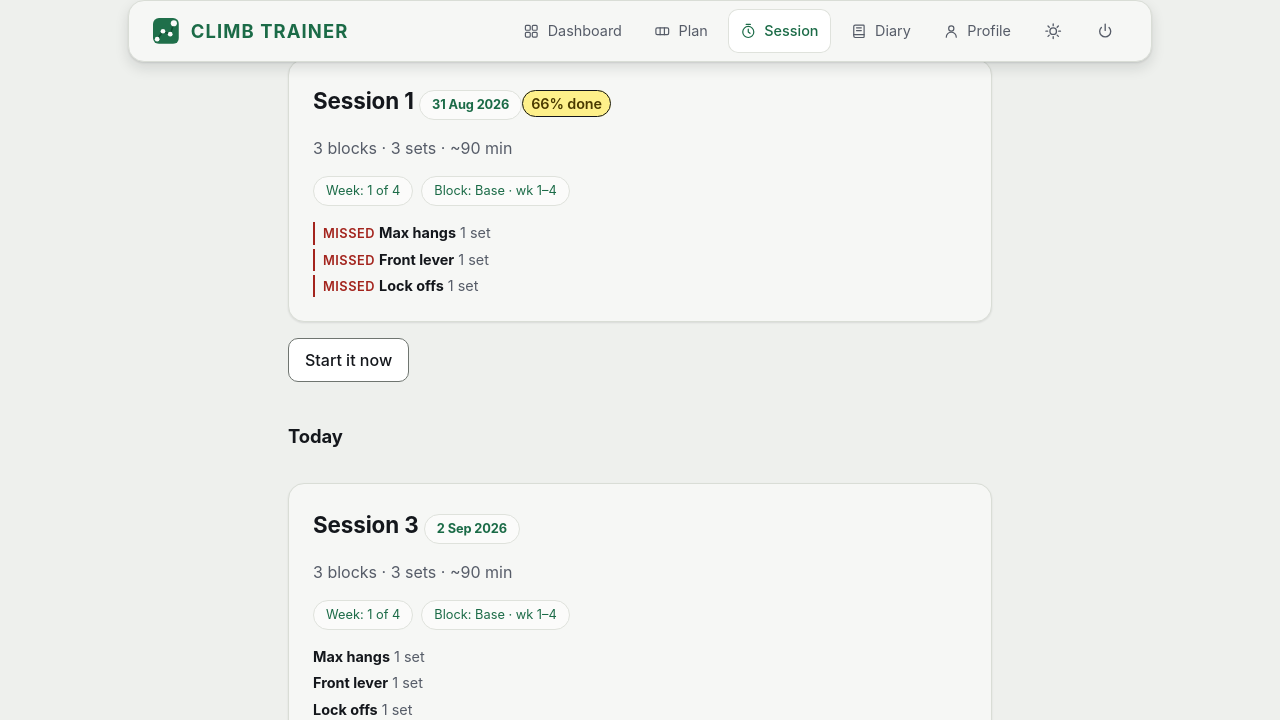
Test: ⚠️ still OFFERS a session finished at a third, and does not paint it finished
(page scrolled)
Check: the heading "Pending from previous days" is shown, box [288,1,536,23]
Click the button "Start it now": {"x": 349, "y": 360} [288,338,409,382]
(page scrolled)
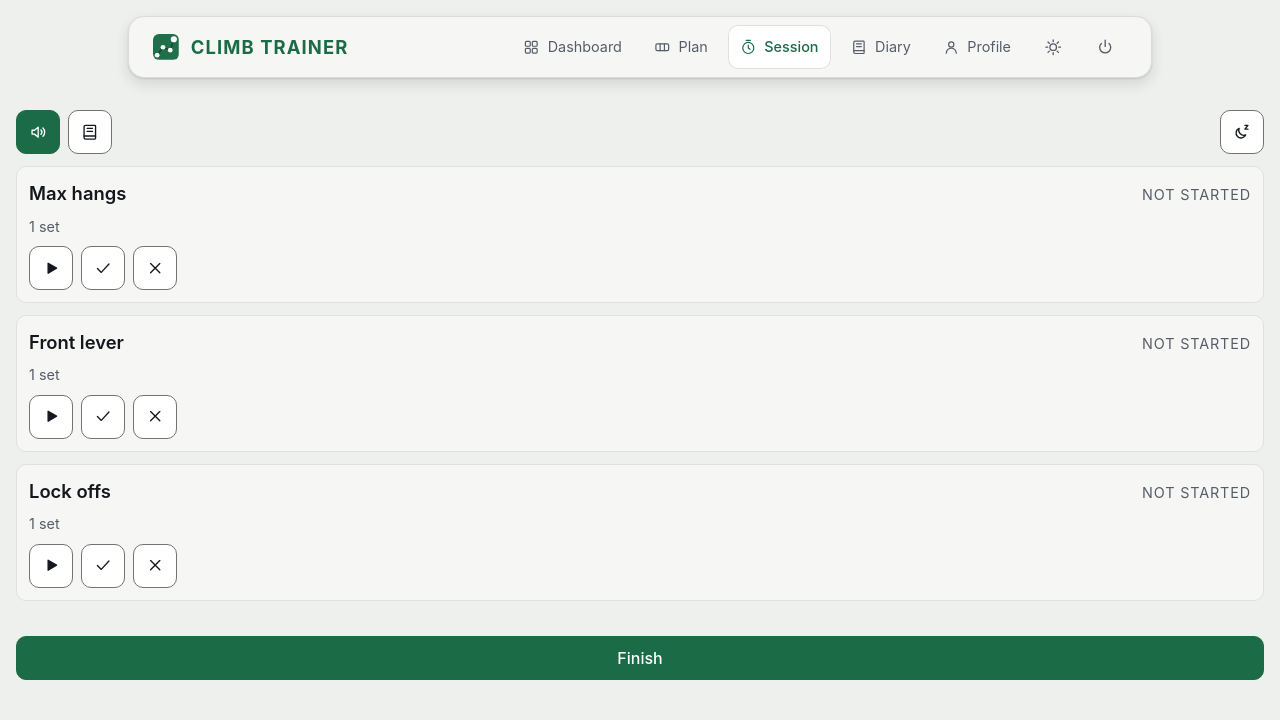
Click the button named "I did Max hangs myself": {"x": 103, "y": 268} [81,246,125,290]
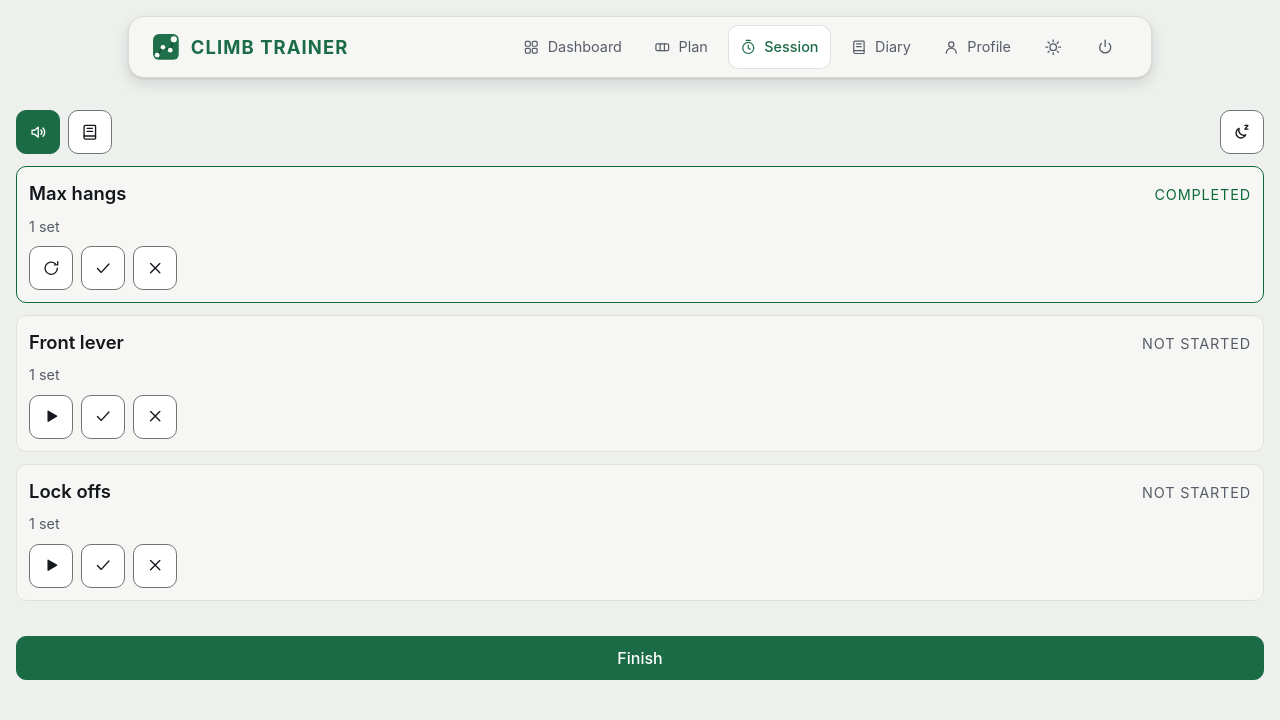
Click the button "Finish": {"x": 640, "y": 658} [16,636,1264,680]
(page scrolled)
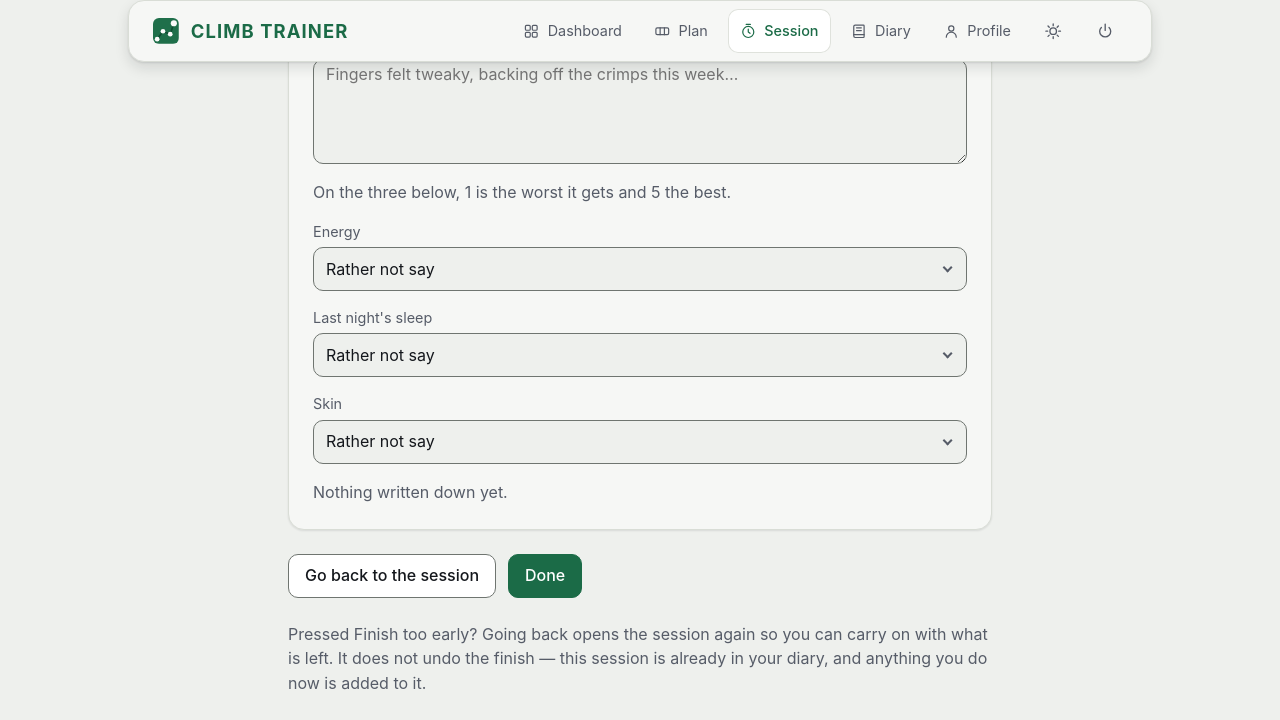
Click the button "Done": {"x": 545, "y": 576} [508,554,582,598]
(page scrolled)
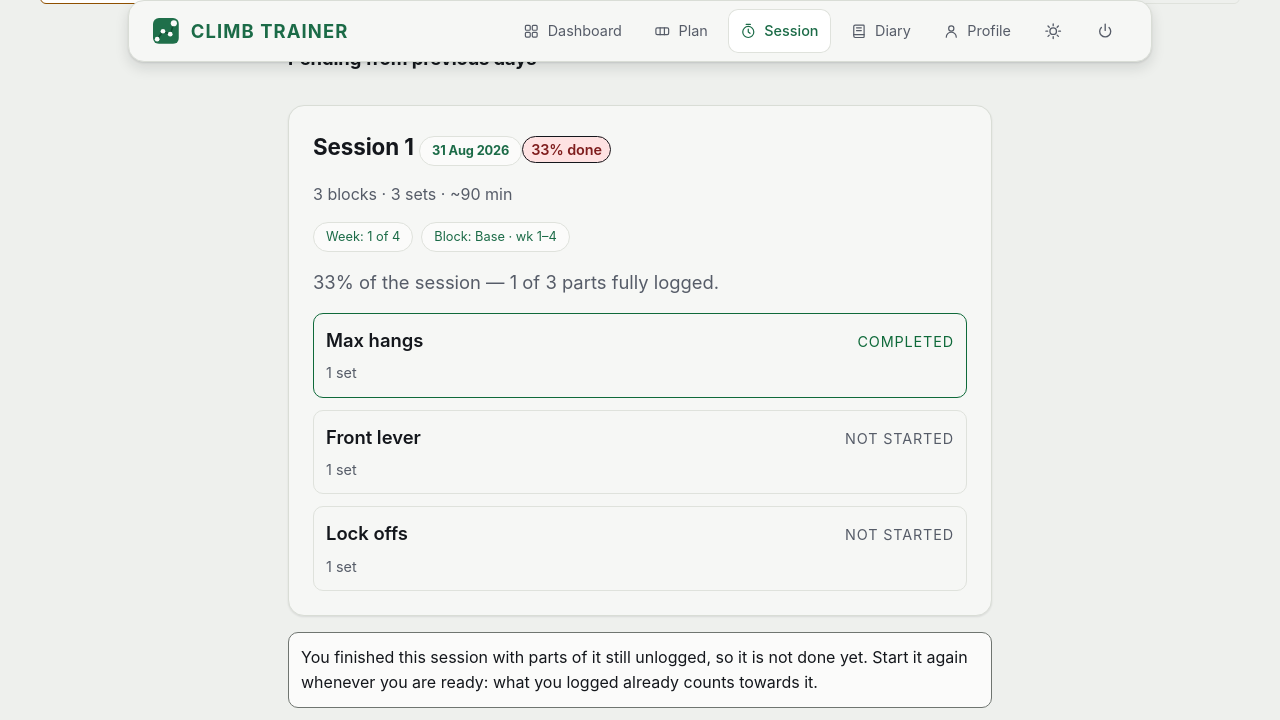
Check: the text "still unlogged, so it is not done yet" is shown, box [301,647,868,667]
Check: the text with class "ct-app__completion" reads "33% done", box [531,141,602,158]
Check: the element with class "ct-app__card" shows "1 of 3 parts fully logged", box [288,105,992,616]
